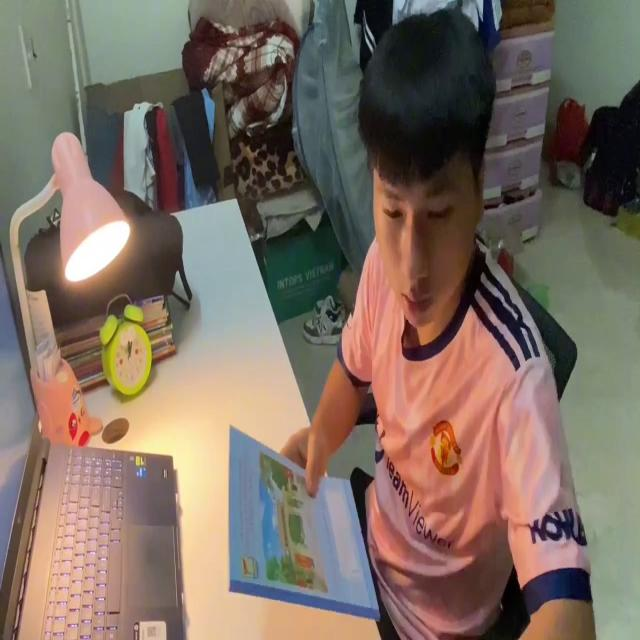book: (224, 414, 384, 626)
laptop: (0, 234, 188, 640)
student: (268, 3, 599, 640)
